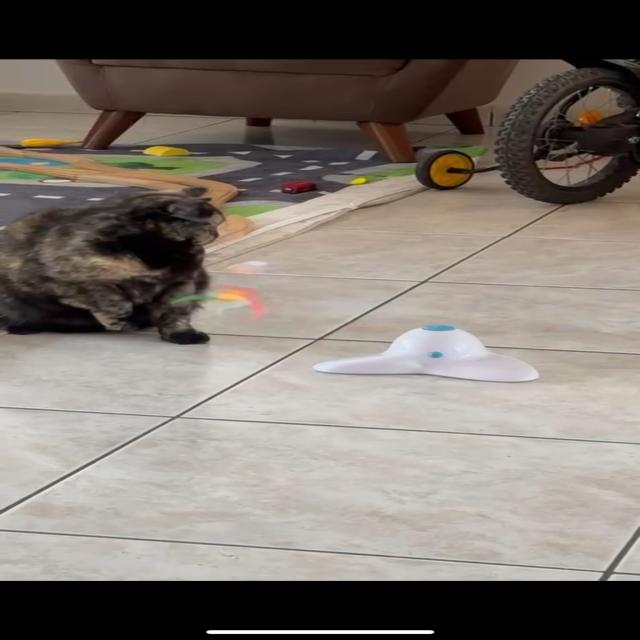authorized: (0, 185, 225, 345)
